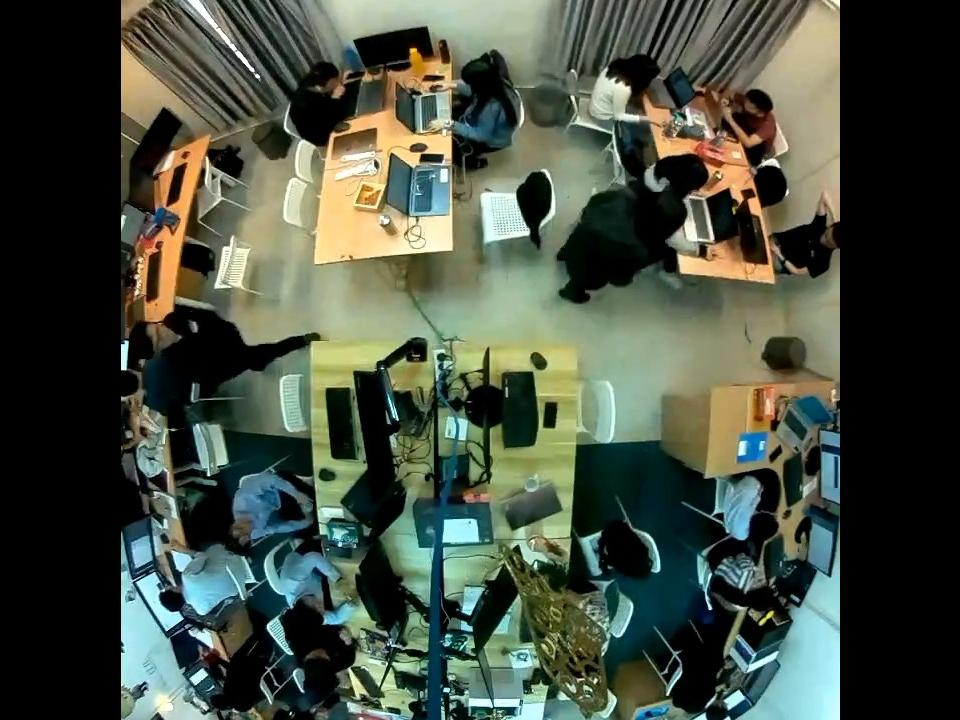name-tag: (187, 320, 197, 334)
